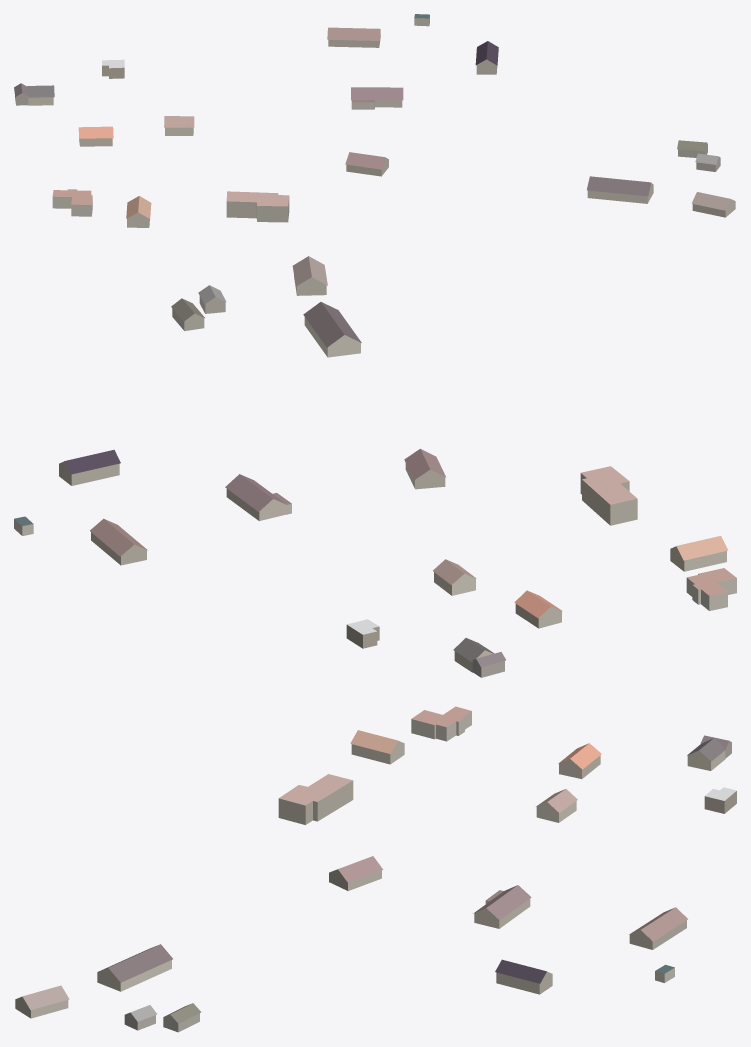
3 renders of one model, top to bottom at view 1: azimuth 30°, elevation 25°; view 2: azimuth 150°, elevation 25°; view 3: azimuth 270°, elevation 25°, orthographic. The views are drawn at different scales.
Visible parts, largest first — view 1: tuile; view 2: tuile; view 3: tuile.
Part boxes in pixels (left/top/right/bottom): tuile: left=14, top=14, right=735, bottom=227; tuile: left=14, top=256, right=736, bottom=677; tuile: left=15, top=706, right=736, bottom=1032.
Size of the model in its own units: 252 by 11.86 by 239.
